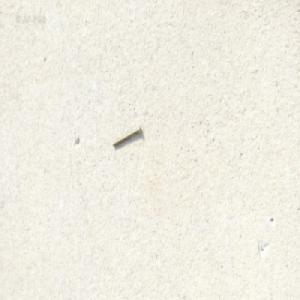Bolt: (112, 124, 141, 147)
